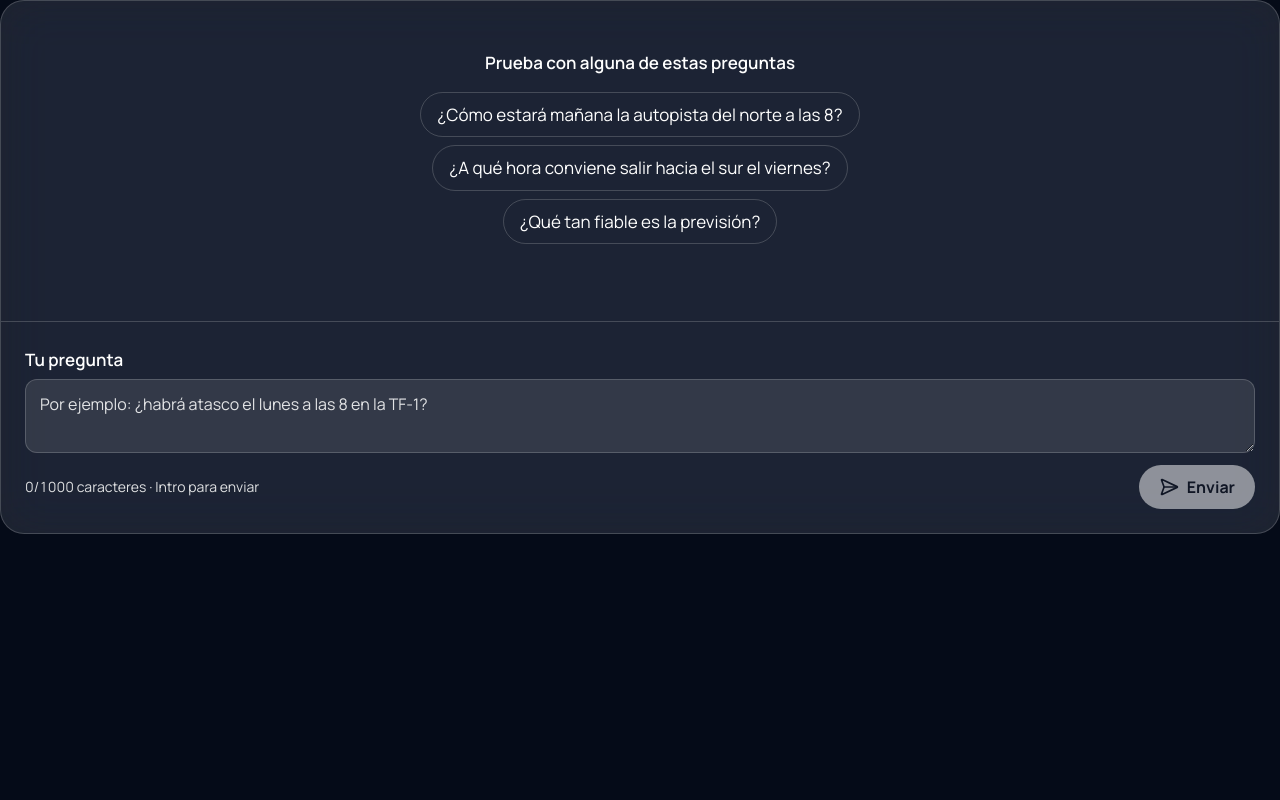
Scenario: Chat › gives the question back when it fails
Type "¿Hola?" into the text box labelled "Tu pregunta" at (640, 416), box [25, 379, 1255, 453]
Then press Enter
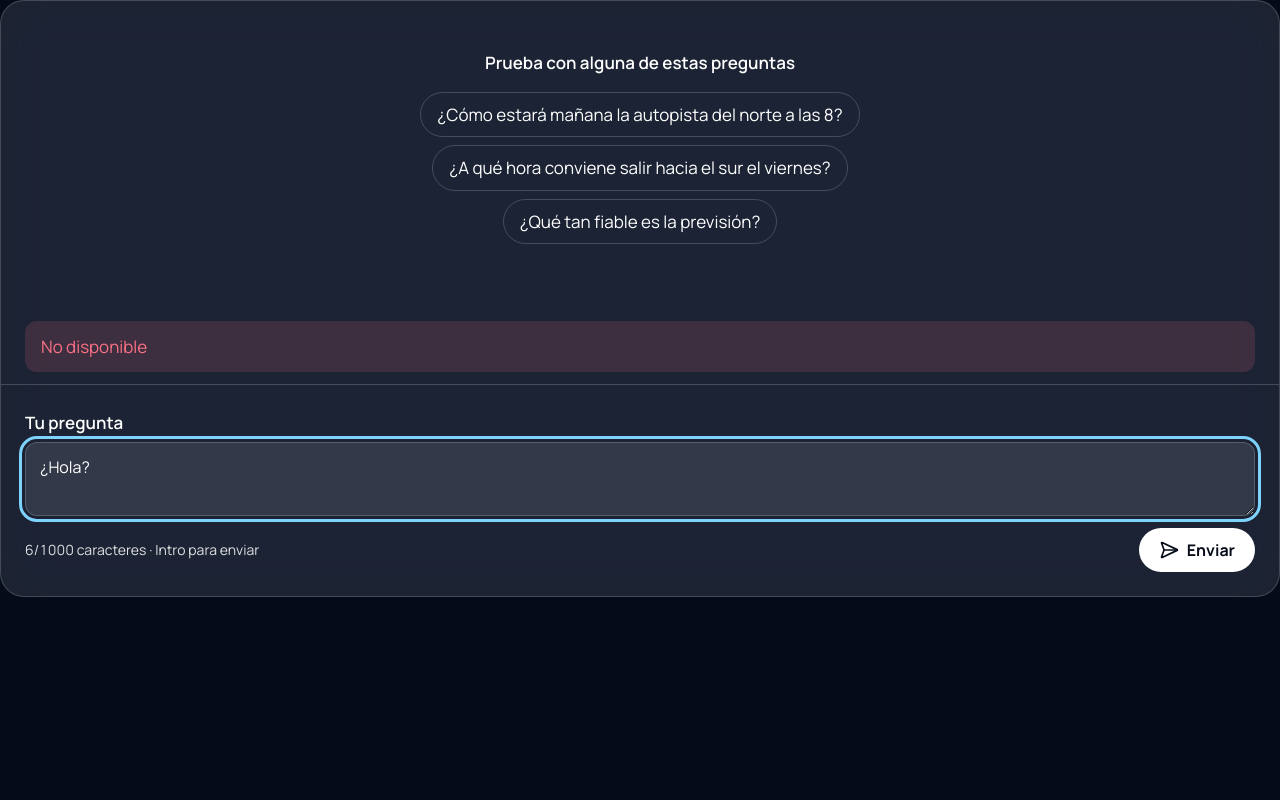
Now the message reads "No disponible", box [41, 335, 147, 358]
